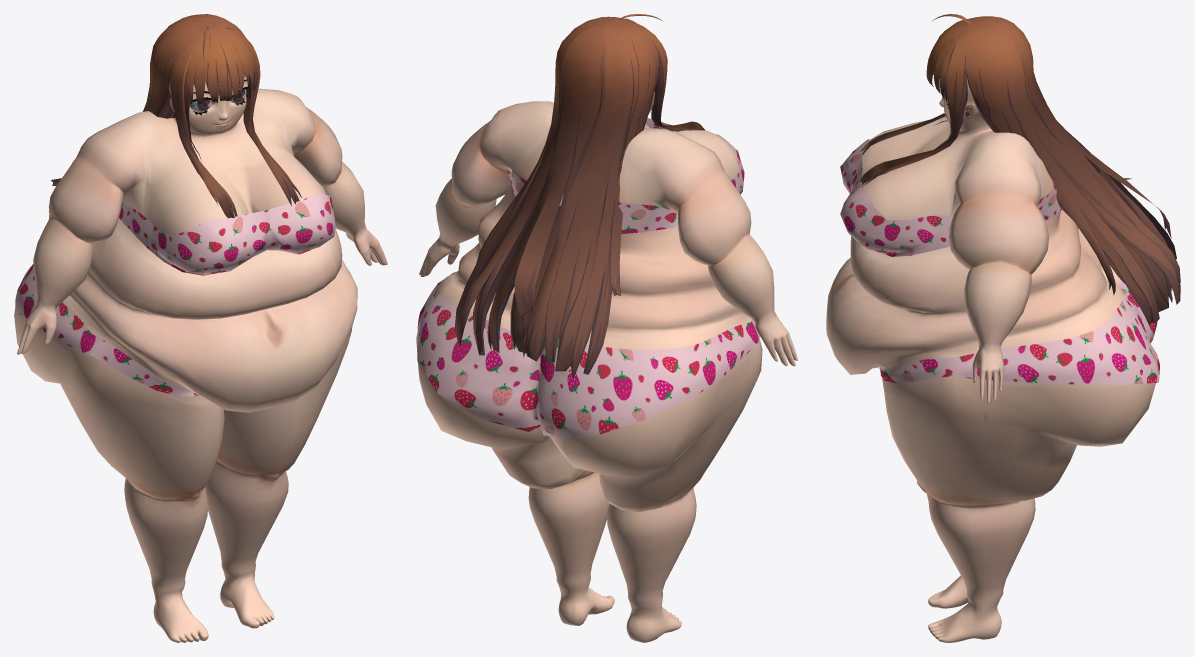
File: fat futaba.fbx
The picture shows the model from 3 angles, left to right: view 1: azimuth 30°, elevation 25°; view 2: azimuth 150°, elevation 25°; view 3: azimuth 270°, elevation 25°; orthographic projection. The views are drawn at different scales.
Parts seen in each view (by area): view 1: body1, hair1, bikini_top, bikini_bottom; view 2: body1, hair1, bikini_bottom, bikini_top; view 3: body1, hair1, bikini_bottom, bikini_top.
Part boxes in pixels (<box>): body1: <box>14,75,387,642</box>; hair1: <box>51,14,301,218</box>; bikini_top: <box>119,190,335,275</box>; bikini_bottom: <box>15,264,198,396</box>; body1: <box>416,92,797,642</box>; hair1: <box>455,14,705,379</box>; bikini_bottom: <box>417,272,760,439</box>; bikini_top: <box>506,118,744,233</box>; body1: <box>826,66,1155,642</box>; hair1: <box>859,14,1180,325</box>; bikini_bottom: <box>879,281,1159,384</box>; bikini_top: <box>840,139,1061,256</box>.
Bounding box in the file's own units: 10.48 × 16.25 × 8.72.
5 materials, 4 textured.
